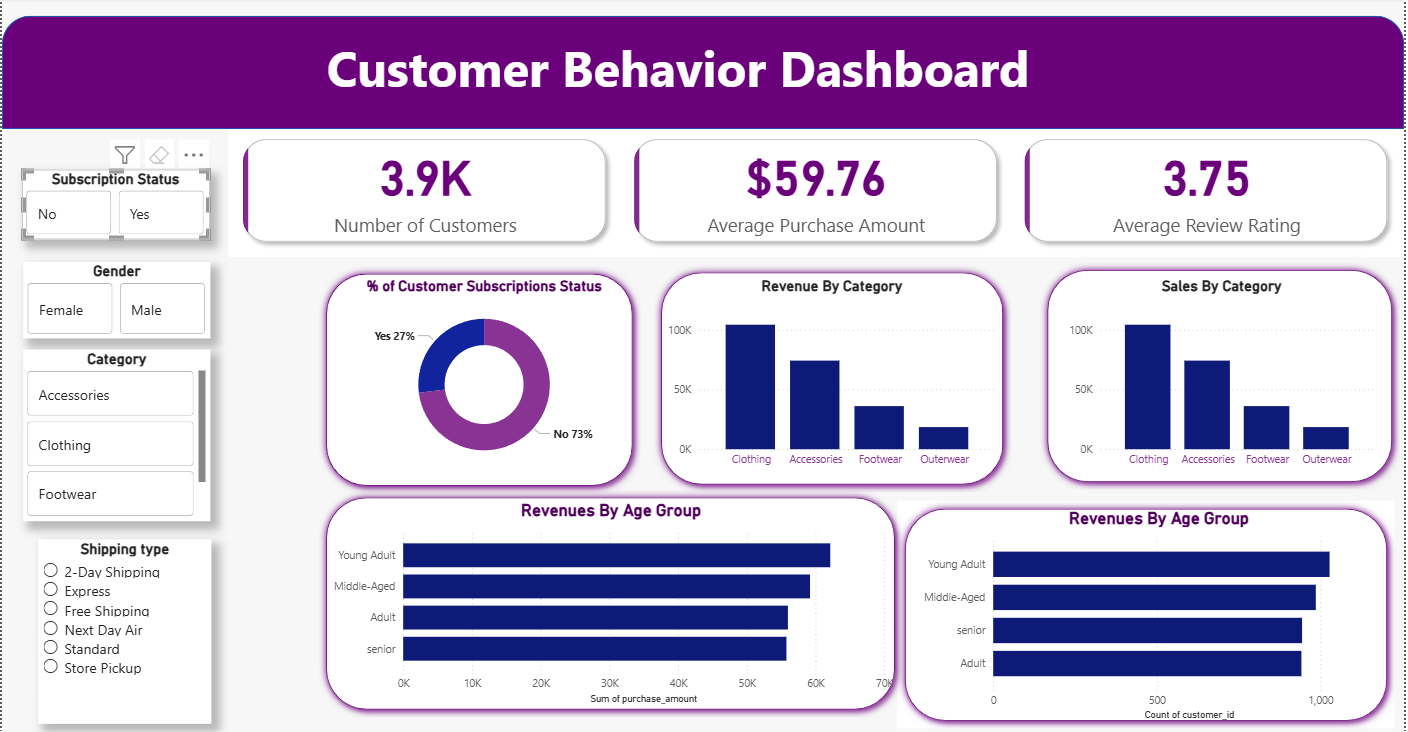

This screenshot's page, from the dashboard's own definition file:
{"tool":"powerbi","page":{"name":"Page 1","canvas":[1600,840],"ordinal":0},"visuals":[{"type":"cardVisual","fields":{"Data":["customer_behavior customer.Number of Customers","customer_behavior customer.Average Purchase Amount","customer_behavior customer.Average Review Rating"]},"box":[258.7,145.3,1341.6,151.2],"z":0},{"type":"shape","box":[0,21.8,1600.3,129.4],"z":1000},{"type":"textbox","box":[130.8,37.8,1280.5,113.4],"z":2000},{"type":"shape","box":[360.5,306.7,367.7,260.2],"z":3000},{"type":"shape","box":[742.7,305.2,408.4,260.2],"z":4000},{"type":"shape","box":[1184.6,302.3,411.3,260.2],"z":5000},{"type":"columnChart","title":"Revenue By Category","fields":{"Category":["customer_behavior customer.category"],"Y":["Sum(customer_behavior customer.purchase_amount)"]},"box":[754.4,319.8,385.2,226.7],"z":6000},{"type":"columnChart","title":"Sales By Category","fields":{"Category":["customer_behavior customer.category"],"Y":["Sum(customer_behavior customer.purchase_amount)"]},"box":[1212.2,319.8,359,226.7],"z":7000},{"type":"advancedSlicerVisual","title":"Subscription Status","fields":{"Values":["customer_behavior customer.subscription_status"]},"box":[23.3,196.2,213.7,79.9],"z":8000},{"type":"advancedSlicerVisual","title":"Gender","fields":{"Values":["customer_behavior customer.gender"]},"box":[24.7,302.3,213.7,87.2],"z":10000},{"type":"advancedSlicerVisual","title":"Category","fields":{"Values":["customer_behavior customer.category"]},"box":[24.7,402.6,213.7,196.2],"z":11000},{"type":"listSlicer","title":"Shipping type","fields":{"Values":["customer_behavior customer.shipping_type"]},"box":[40.7,619.2,197.7,210.8],"z":12000},{"type":"donutChart","title":"% of Customer Subscriptions Status","fields":{"Category":["customer_behavior customer.subscription_status"],"Y":["CountNonNull(customer_behavior customer.customer_id)"]},"box":[372.1,319.8,356.1,226.7],"z":14000},{"type":"shape","box":[1021.8,575.6,568.3,260.2],"z":15000},{"type":"shape","box":[360.5,562.5,667.2,260.2],"z":16000},{"type":"clusteredBarChart","title":"Revenues By Age Group","fields":{"Category":["customer_behavior customer.age_group"],"Y":["Sum(customer_behavior customer.purchase_amount)"]},"box":[367.7,575.6,654.1,236.9],"z":16001},{"type":"clusteredBarChart","title":"Revenues By Age Group","fields":{"Category":["customer_behavior customer.age_group"],"Y":["CountNonNull(customer_behavior customer.customer_id)"]},"box":[1042.2,582.9,558.1,247.1],"z":16002}]}

Visuals, with their boxes in screenshot pixels (x1, y1, x2, y2), scaled from the page's 1600x840 canvas onto the 1408x732 screenshot:
cardVisual - customer_behavior customer.Number of Customers x customer_behavior customer.Average Purchase Amount: detection(228, 127, 1407, 258)
shape: detection(0, 19, 1407, 132)
textbox: detection(115, 33, 1242, 132)
shape: detection(317, 267, 641, 494)
shape: detection(654, 266, 1013, 493)
shape: detection(1042, 263, 1404, 490)
"Revenue By Category" columnChart: detection(664, 279, 1003, 476)
"Sales By Category" columnChart: detection(1067, 279, 1383, 476)
"Subscription Status" advancedSlicerVisual: detection(21, 171, 209, 241)
"Gender" advancedSlicerVisual: detection(22, 263, 210, 339)
"Category" advancedSlicerVisual: detection(22, 351, 210, 522)
"Shipping type" listSlicer: detection(36, 540, 210, 723)
"% of Customer Subscriptions Status" donutChart: detection(327, 279, 641, 476)
shape: detection(899, 502, 1399, 728)
shape: detection(317, 490, 904, 717)
"Revenues By Age Group" clusteredBarChart: detection(324, 502, 899, 708)
"Revenues By Age Group" clusteredBarChart: detection(917, 508, 1407, 723)
